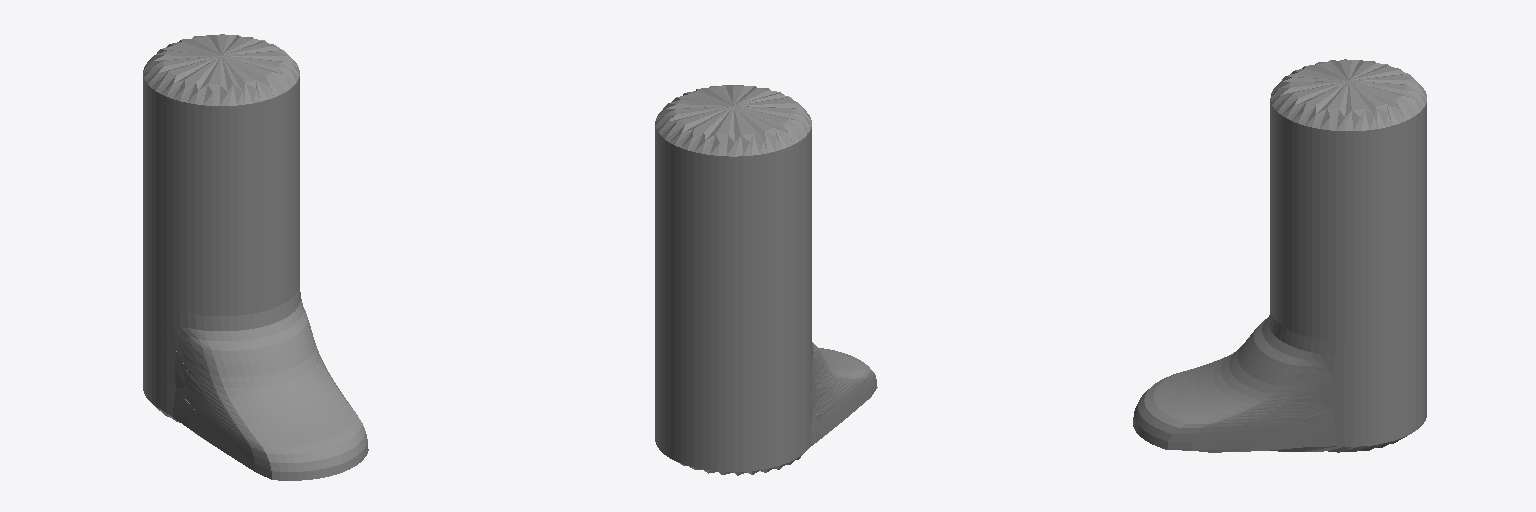
File: Pierna_DER.obj
3 views of the same model, side by side, from view 1: azimuth 30°, elevation 25°; view 2: azimuth 150°, elevation 25°; view 3: azimuth 270°, elevation 25° (orthographic).
Visible parts, largest first — view 1: Cylinder002; view 2: Cylinder002; view 3: Cylinder002.
Part boxes in pixels (x1,y1,x2,y2): Cylinder002: (143,34,368,480); Cylinder002: (655,85,877,475); Cylinder002: (1133,59,1426,452).
Size of the model in its own units: 3.83 by 9.46 by 7.2.